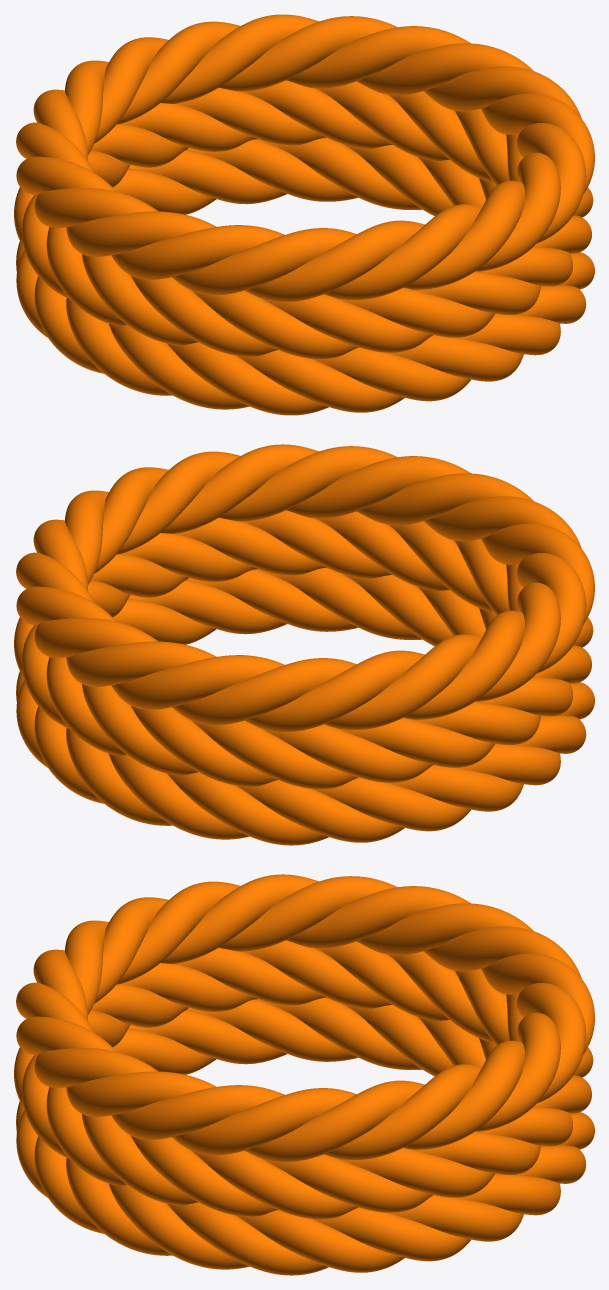
Rendered from Rope.fbx.
3 renders of one model, top to bottom at view 1: azimuth 30°, elevation 25°; view 2: azimuth 150°, elevation 25°; view 3: azimuth 270°, elevation 25°, orthographic.
Parts seen in each view (by area): view 1: Cutting Objects; view 2: Cutting Objects; view 3: Cutting Objects.
Part boxes in pixels (x1=…): Cutting Objects: x1=14, y1=14, x2=594, y2=415; Cutting Objects: x1=14, y1=444, x2=594, y2=845; Cutting Objects: x1=14, y1=874, x2=594, y2=1275.
Bounding box in the file's own units: 26.59 × 9.13 × 26.63.
